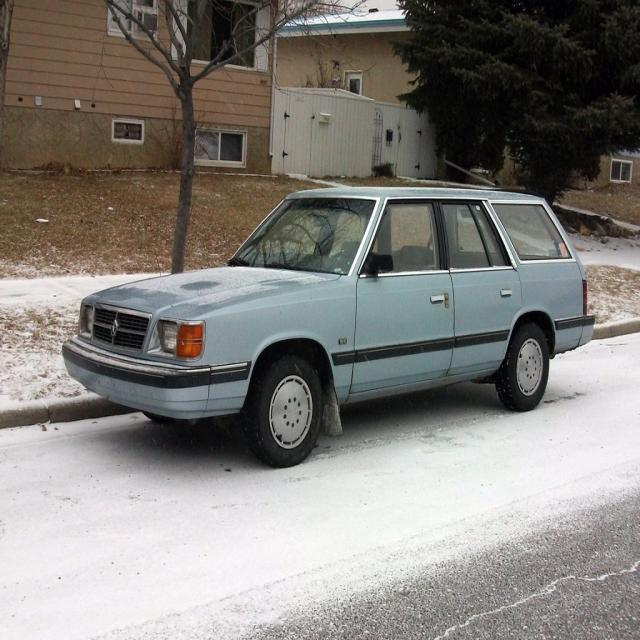car: (60, 179, 591, 465)
